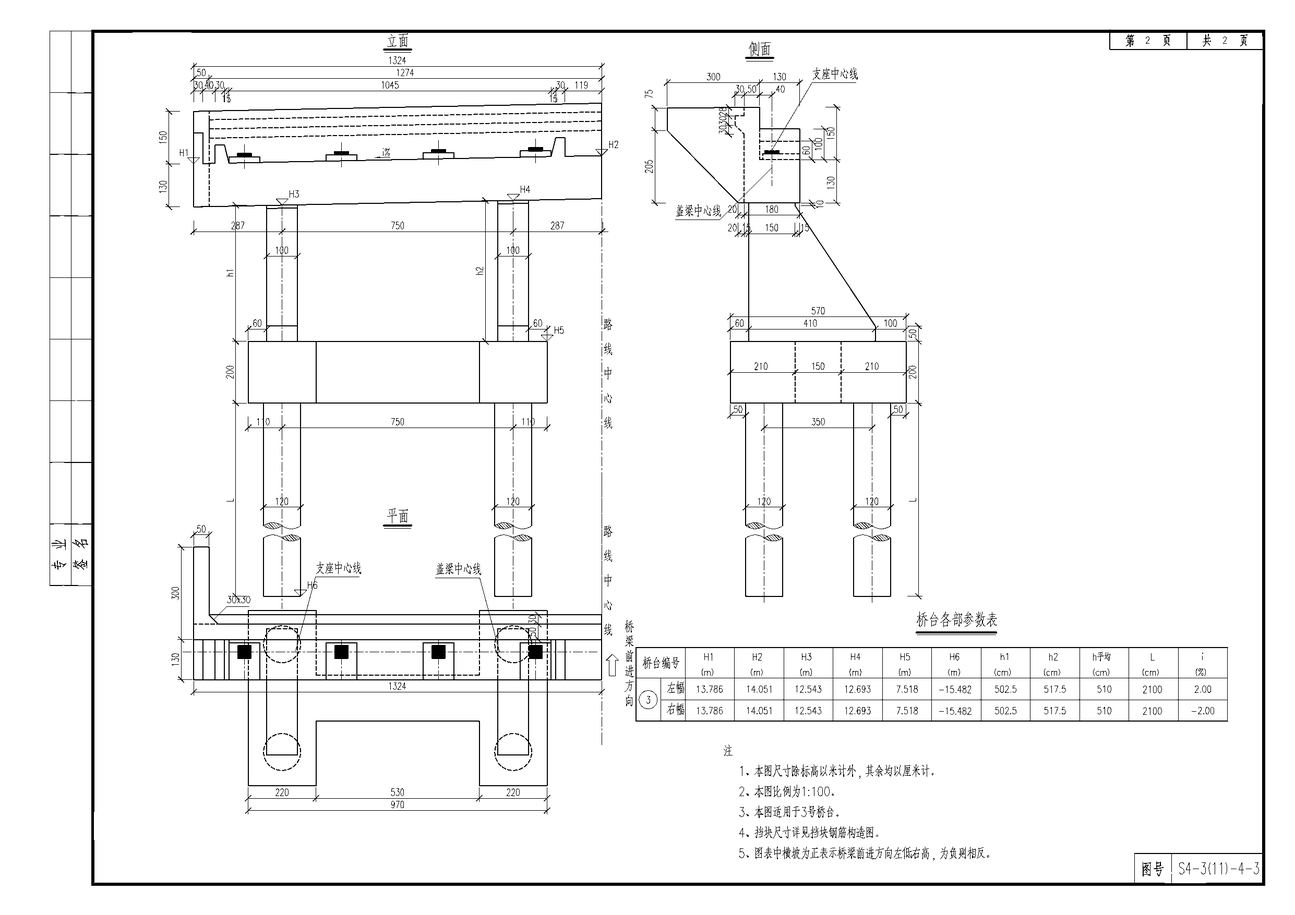D1: (492, 241, 535, 263), (260, 242, 304, 263)
D2: (256, 492, 307, 514), (487, 492, 537, 514)
L1: (373, 210, 421, 245)
